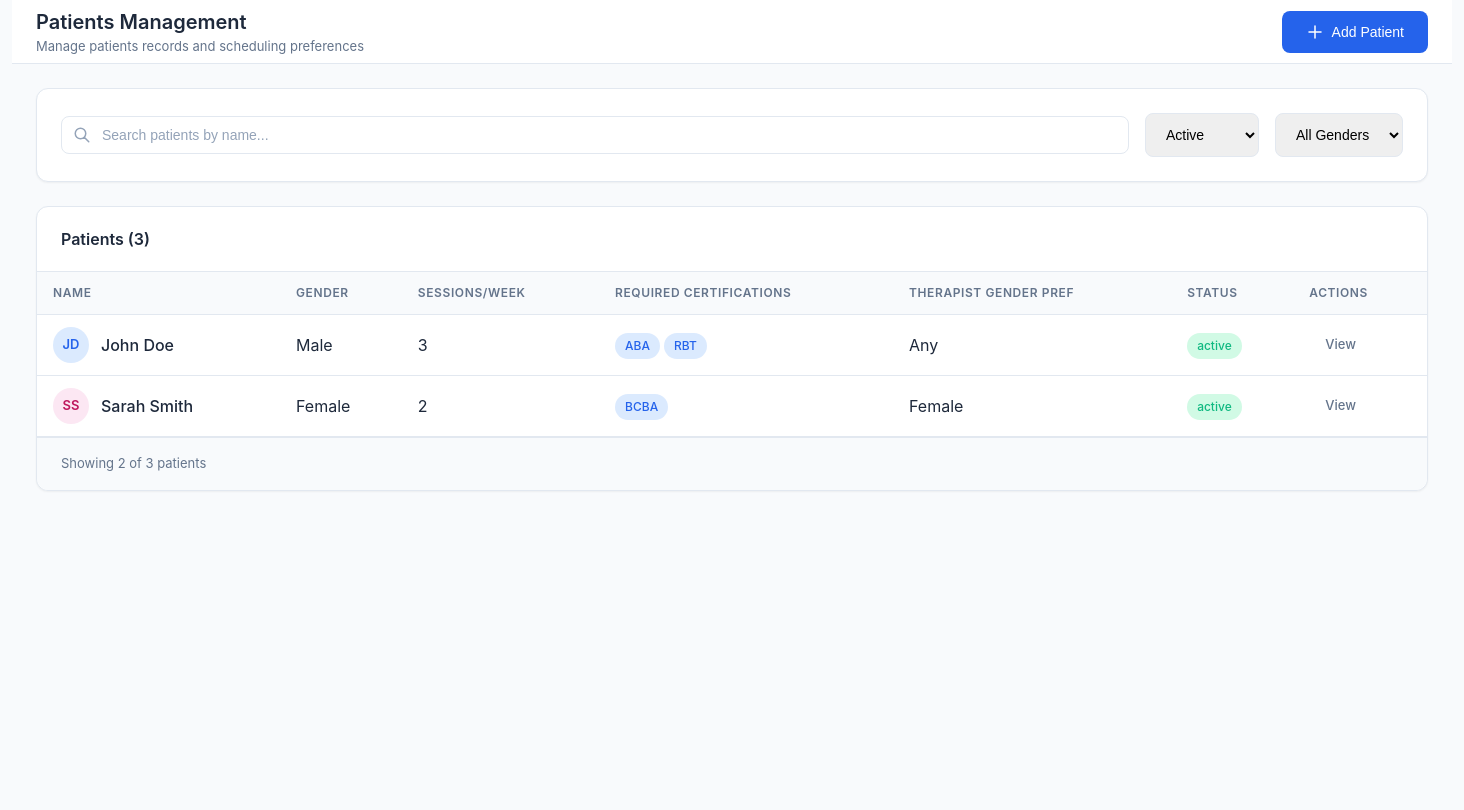
Test: PatientListPage › add patient modal › should open add modal when add button clicked
The image size is (1464, 810).
Click the button "Add Patient". click: (1355, 32)
box: [1282,10,1428,52]
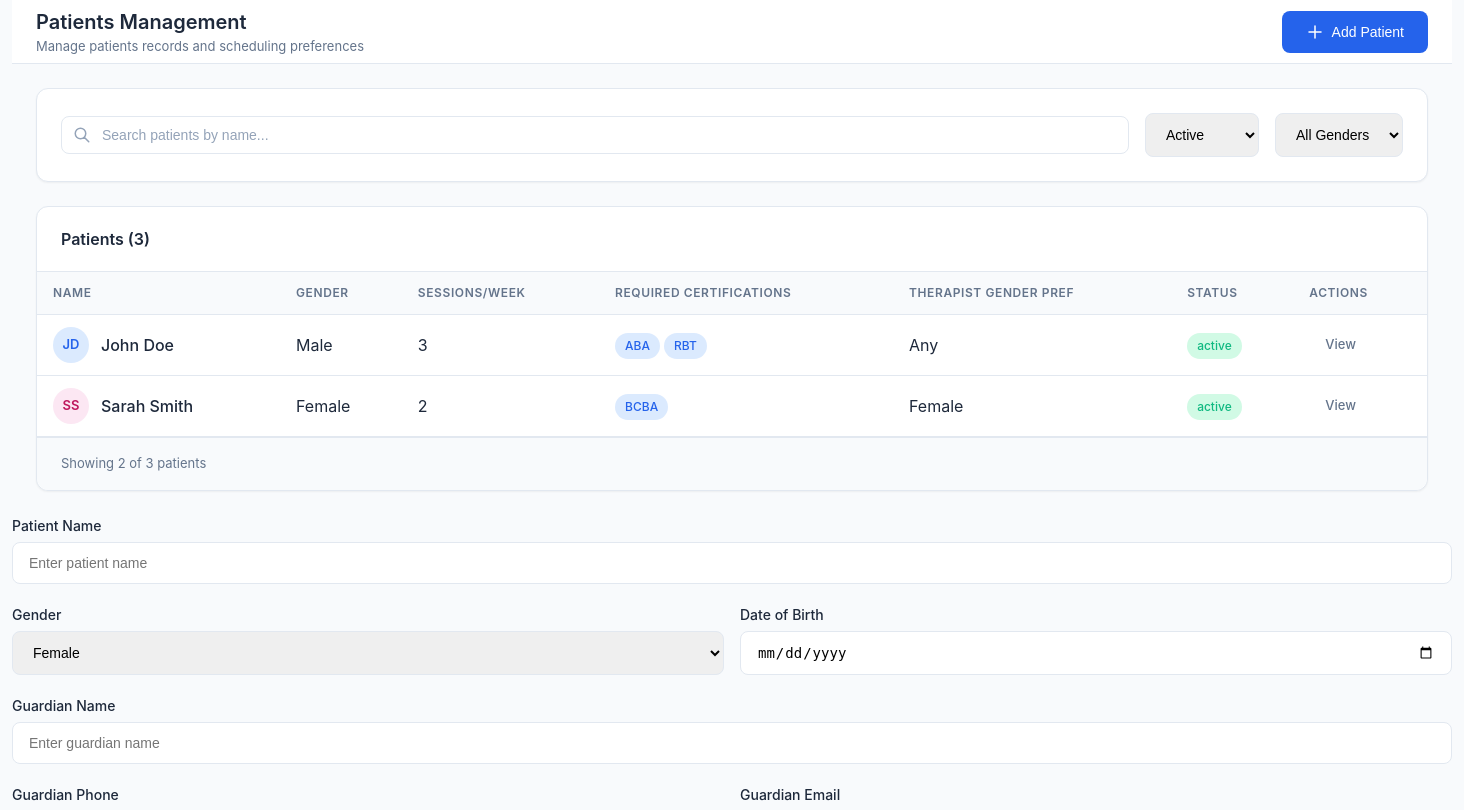
expect the field with id "name" is shown: met, box [12,542,1452,584]
